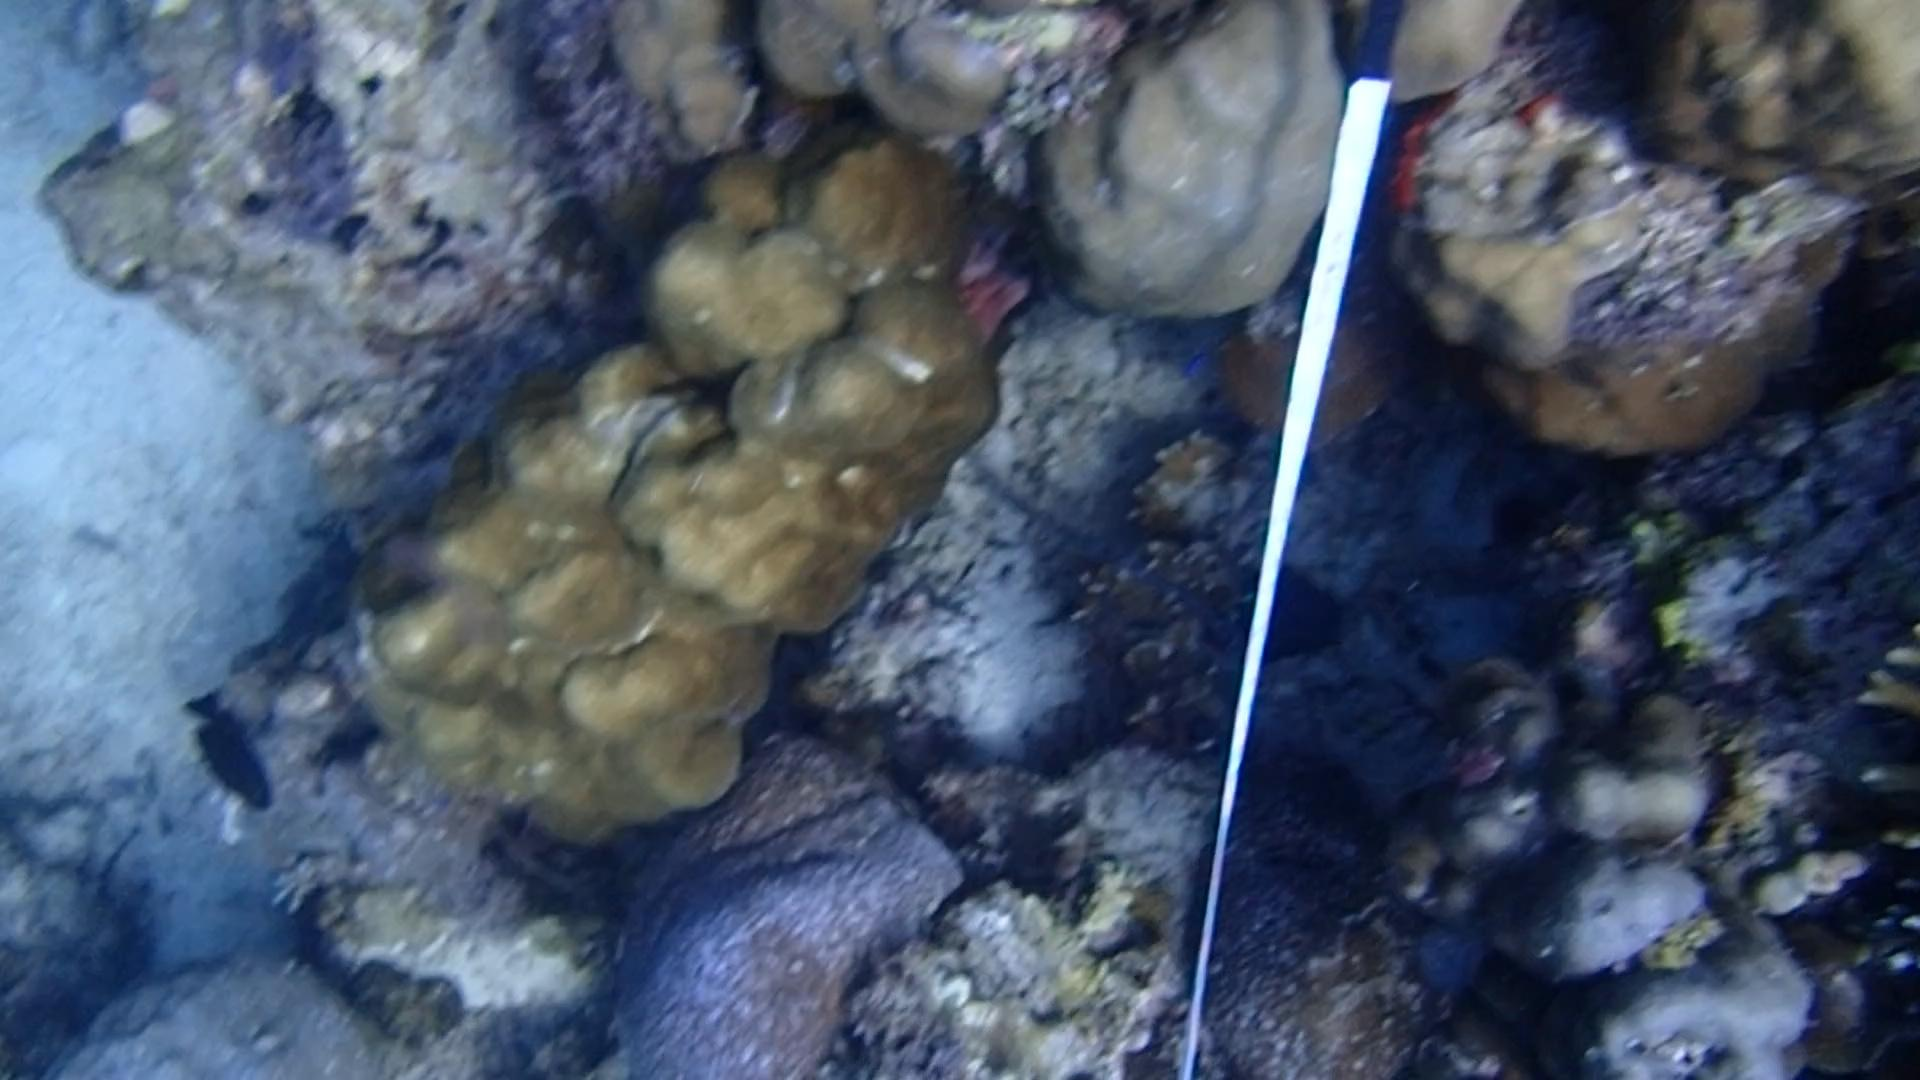Dark Fish: (174, 683, 280, 820)
